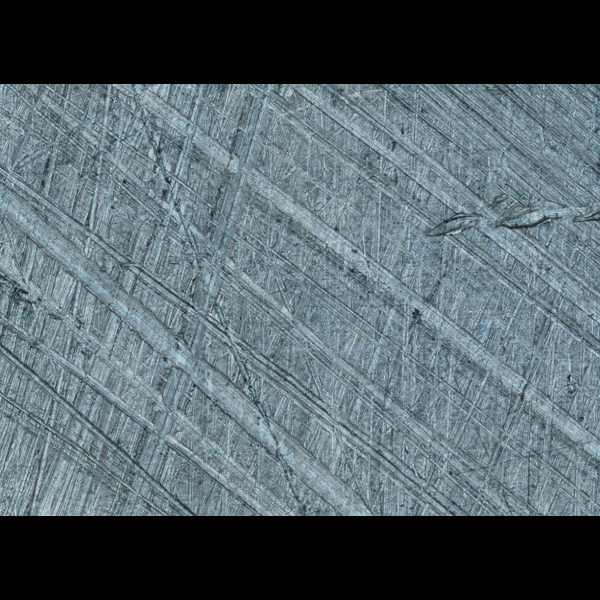d: (418, 186, 599, 247)
